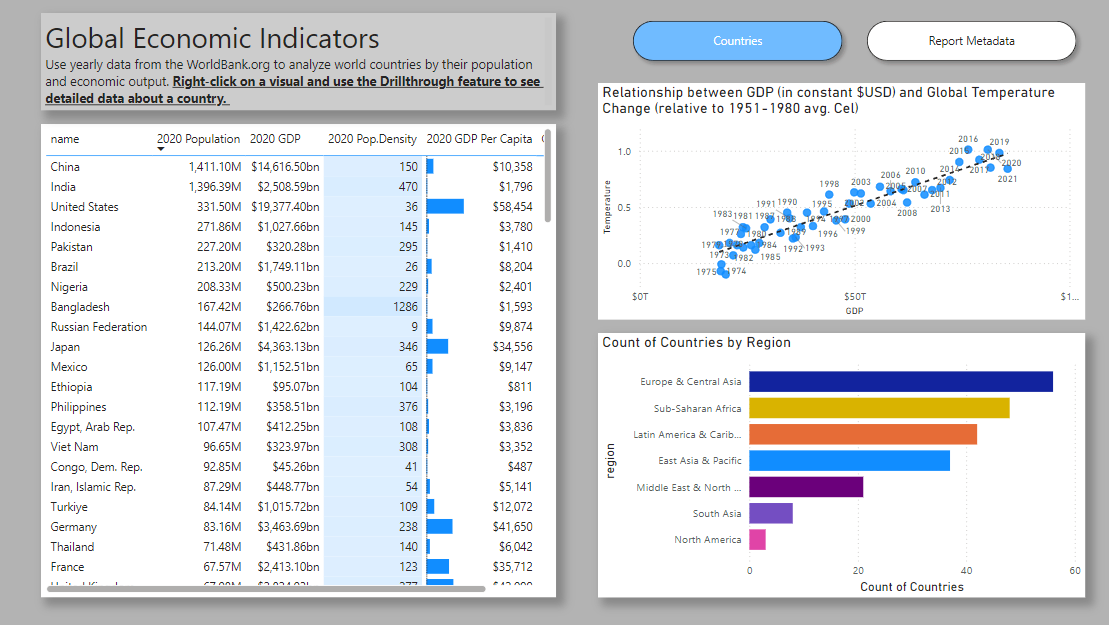

The dashboard page shown, as its layout file describes it:
{"tool":"powerbi","page":{"name":"Countries","canvas":[1280,720],"ordinal":0},"visuals":[{"type":"tableEx","fields":{"Values":["Countries.name","_Measures.2020 Population","_Measures.2020 GDP","_Measures.2020 Pop.Density","_Measures.2020 GDP Per Capita","SparklineData(_Measures.GDP_[Indicators.Year])"]},"box":[48,144,592,544],"z":0},{"type":"clusteredBarChart","title":"Count of Countries by Region","fields":{"Category":["Countries.region"],"Y":["Count(Countries)"]},"box":[688,384,560,304],"z":2000},{"type":"pageNavigator","box":[720,16,528,64],"z":3000},{"type":"textbox","box":[48,16,592,112],"z":4000},{"type":"scatterChart","title":"Relationship between GDP (in constant $USD) and Global Temperature Change (relative to 1951-1980 avg. Cel)","fields":{"X":["_Measures.GDP"],"Category":["Year.Year"],"Y":["_Measures.Temperature"]},"box":[688,96,560,272],"z":4001}]}

Visuals, with their boxes in screenshot pixels (x1, y1, x2, y2), scaled from the page's 1280x720 canvas onto the 1109x625 screenshot:
tableEx - Countries.name x _Measures.2020 Population: left=42, top=125, right=554, bottom=597
"Count of Countries by Region" clusteredBarChart: left=596, top=333, right=1081, bottom=597
pageNavigator: left=624, top=14, right=1081, bottom=69
textbox: left=42, top=14, right=554, bottom=111
"Relationship between GDP (in constant $USD) and Global Temperature Change (relative to 1951-1980 avg. Cel)" scatterChart: left=596, top=83, right=1081, bottom=319
